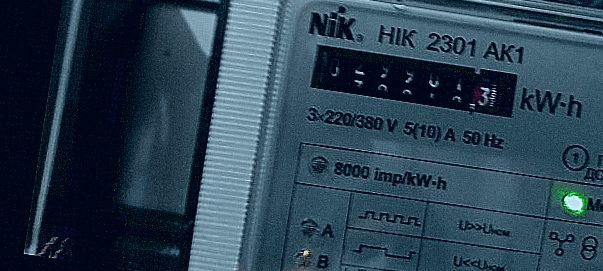0: (425, 63, 442, 90), (324, 54, 343, 78)
1: (449, 68, 466, 92)
2: (350, 55, 368, 76)
3: (475, 83, 491, 106)
9: (400, 61, 417, 85), (375, 57, 390, 81)
screen: (295, 31, 529, 128)
